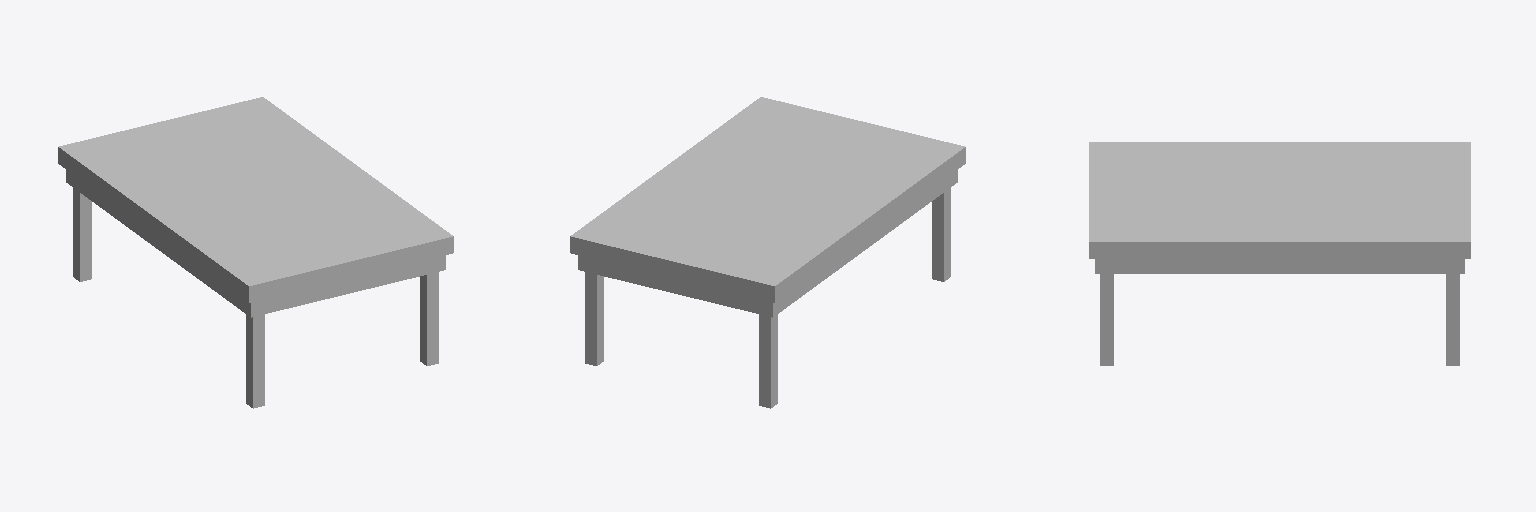
File: mesa.obj
The picture shows the model from 3 angles: view 1: azimuth 30°, elevation 25°; view 2: azimuth 150°, elevation 25°; view 3: azimuth 270°, elevation 25°; orthographic projection.
Visible parts, largest first — view 1: Cube; view 2: Cube; view 3: Cube.
Boxes of the visible parts, <box> form: Cube: <box>58,97,453,408</box>; Cube: <box>570,97,965,408</box>; Cube: <box>1089,142,1470,365</box>.
Bounding box in the file's own units: 4.69 × 2.82 × 7.57.